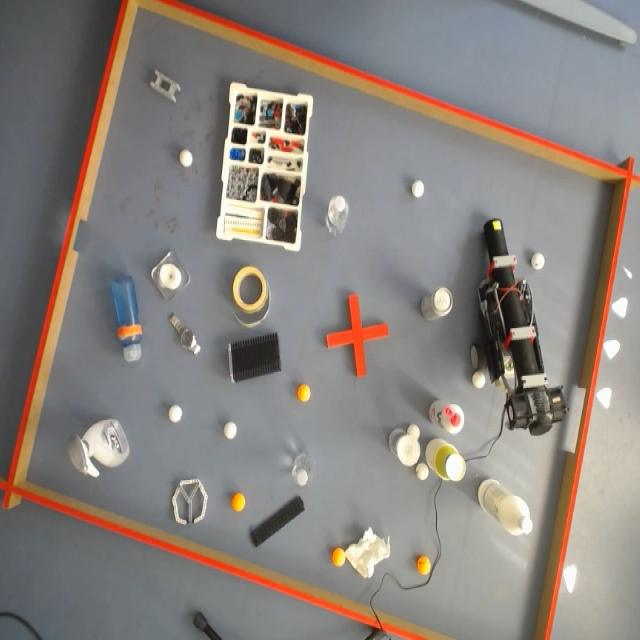orange: (416, 554, 432, 577), (295, 383, 312, 404), (230, 491, 246, 513), (332, 546, 344, 566)
robot: (472, 219, 569, 436)
robot-front: (491, 220, 504, 233)
white: (408, 178, 426, 202), (167, 403, 184, 426), (178, 148, 193, 167), (532, 252, 546, 270), (473, 371, 487, 389), (223, 421, 237, 439), (416, 462, 428, 482), (407, 423, 420, 441)
